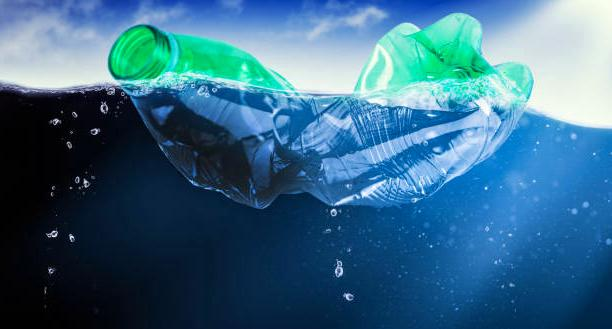Plastic: (99, 10, 546, 209)
